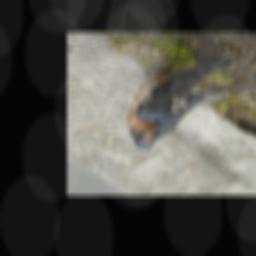Swallow: (126, 59, 256, 152)
